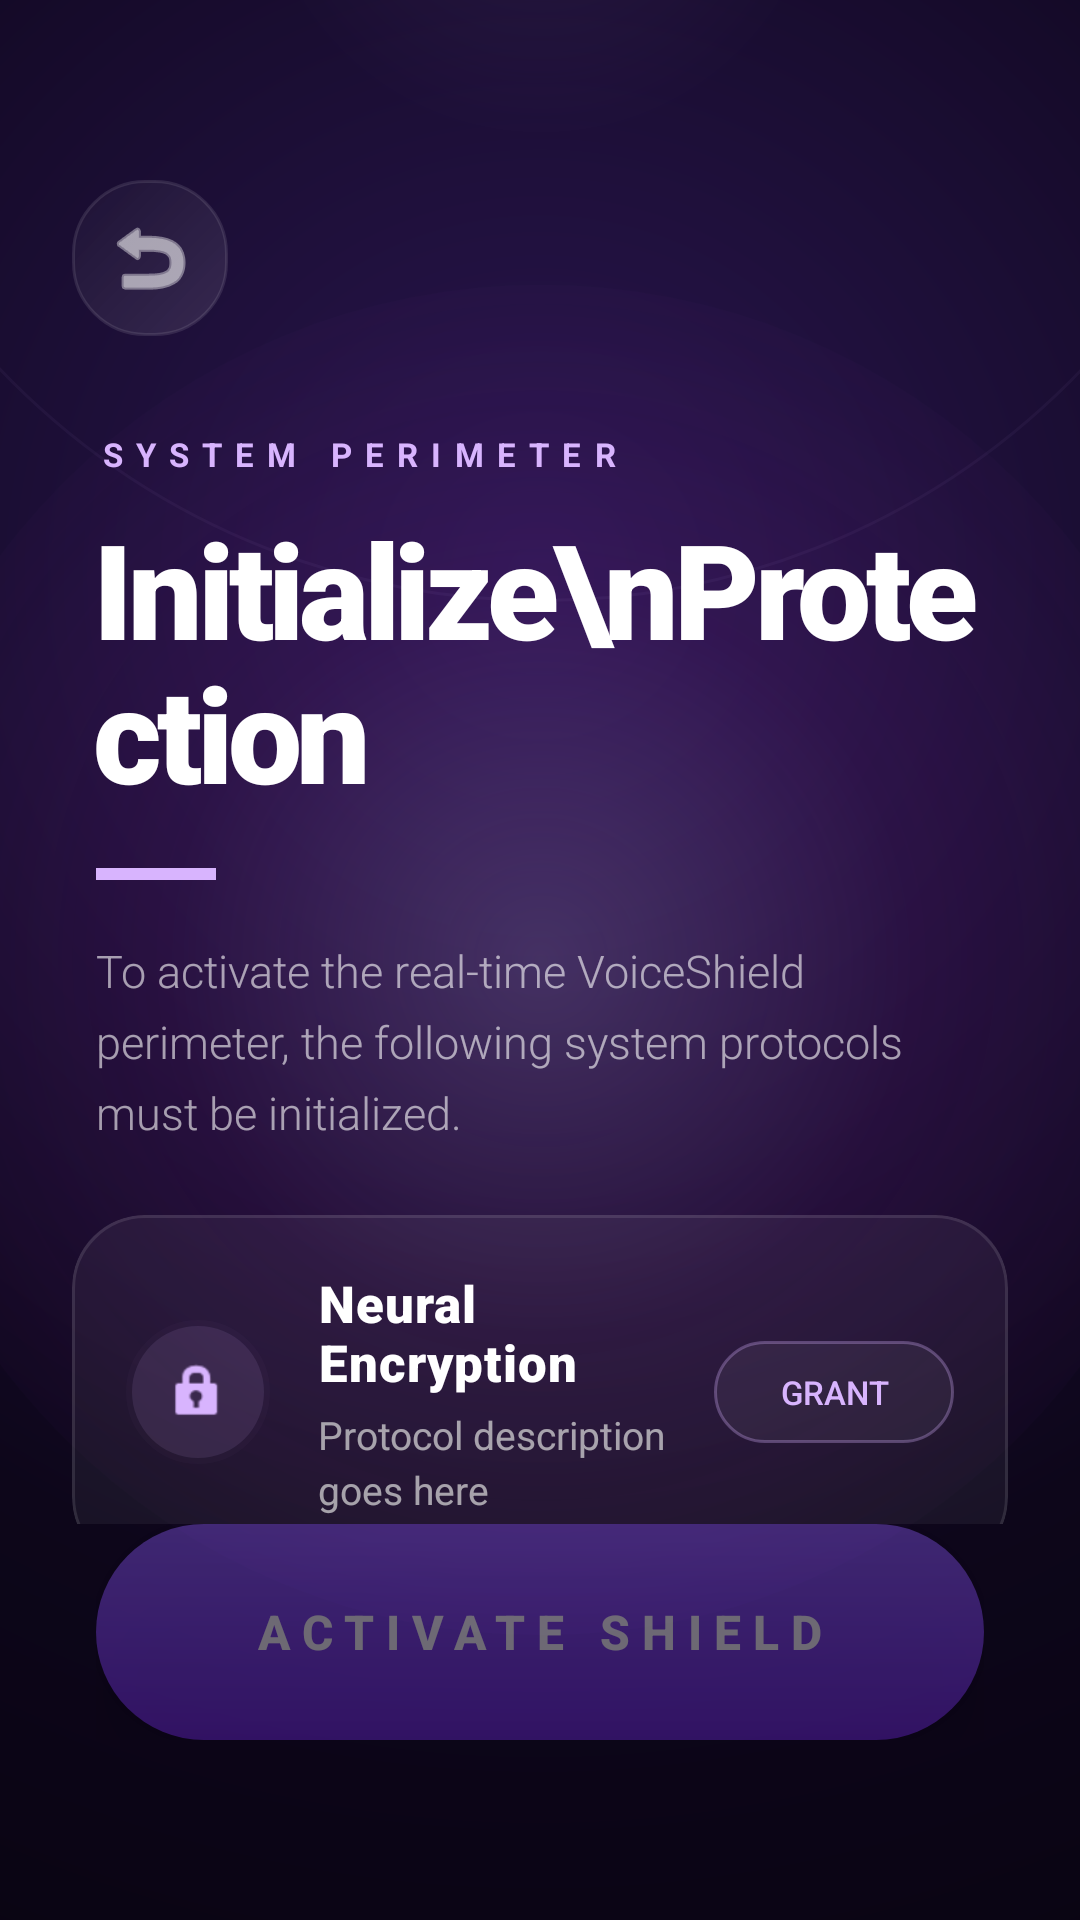

Locate icon controls on the screen. Image size 1080×1920, boxes as (x1, y1, x2, y2).
lock idle: (175, 1365, 218, 1415)
revert: (72, 180, 228, 336)
